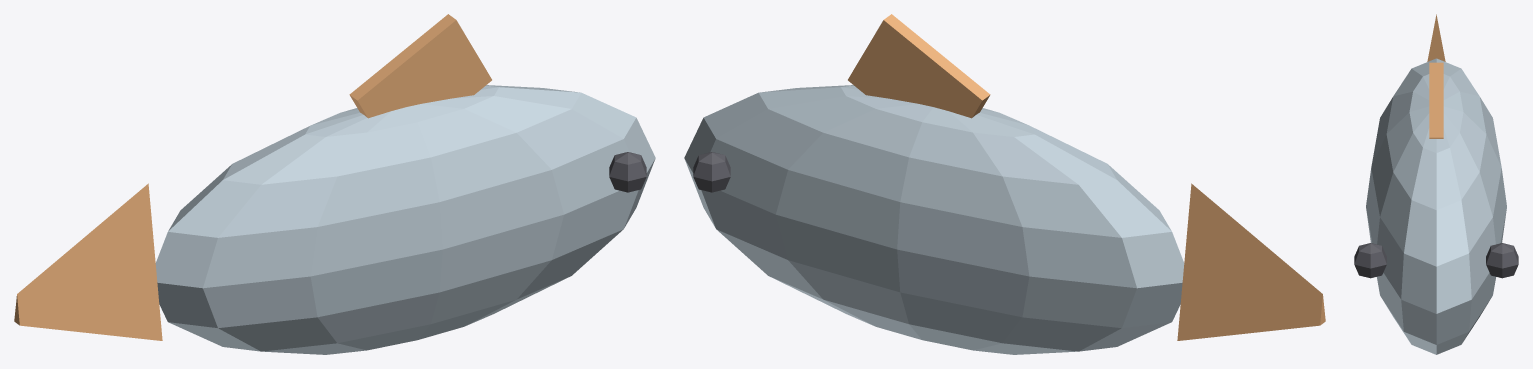
The model's file is fish.glb.
3 views of the same model, side by side, from view 1: azimuth 30°, elevation 25°; view 2: azimuth 150°, elevation 25°; view 3: azimuth 270°, elevation 25° (orthographic). The views are drawn at different scales.
Visible parts, largest first — view 1: pez; view 2: pez; view 3: pez.
Part boxes in pixels (x1=…): pez: x1=14, y1=14, x2=655, y2=354; pez: x1=684, y1=14, x2=1325, y2=354; pez: x1=1354, y1=14, x2=1518, y2=354.
Bounding box in the file's own units: 0.68 × 0.3139 × 0.1746.
